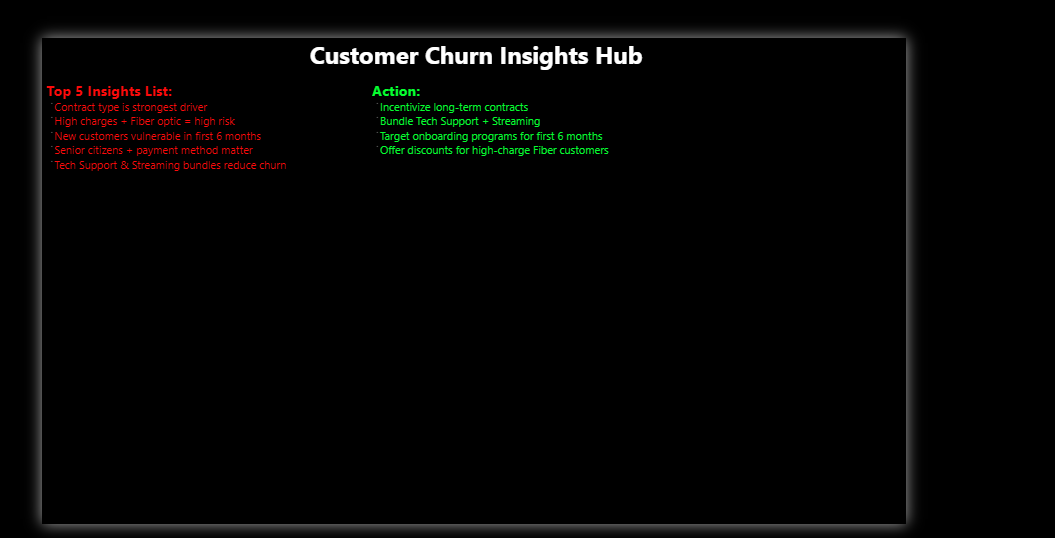

The page's visual inventory and layout, read from the dashboard file:
{"tool":"powerbi","page":{"name":"Insights & Recommendations","canvas":[1920,1080],"ordinal":2},"visuals":[{"type":"textbox","box":[10,0,1910,92],"z":0},{"type":"textbox","box":[10,92,824,244],"z":1},{"type":"textbox","box":[734,92,918,244],"z":2}]}

Visuals, with their boxes on the page's 1920x1080 design canvas (x1, y1, x2, y2). These are canvas units, not pixel positions in the 1055x538 screenshot, which may show the page scaled, cropped or inside an application window:
textbox: region(10, 0, 1920, 92)
textbox: region(10, 92, 834, 336)
textbox: region(734, 92, 1652, 336)
